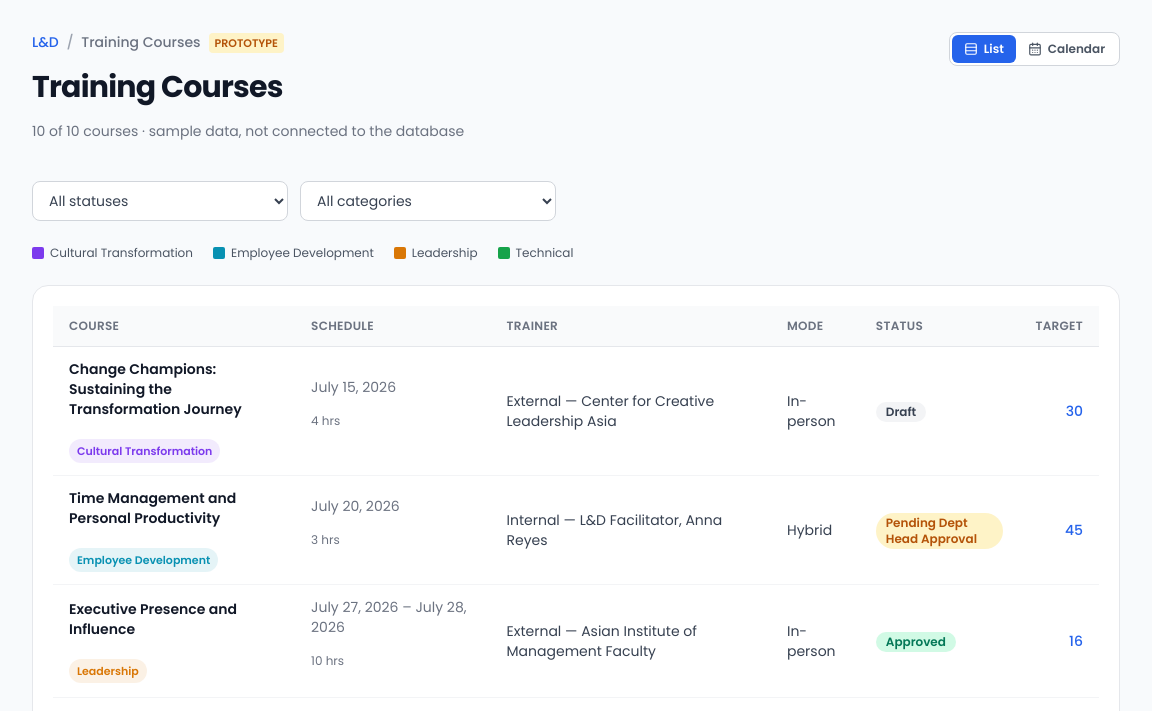
Test: TrainingCoursesPrototype › filters by status
Select "Rejected" in the 1st dropdown: (160, 201) [32,181,288,221]
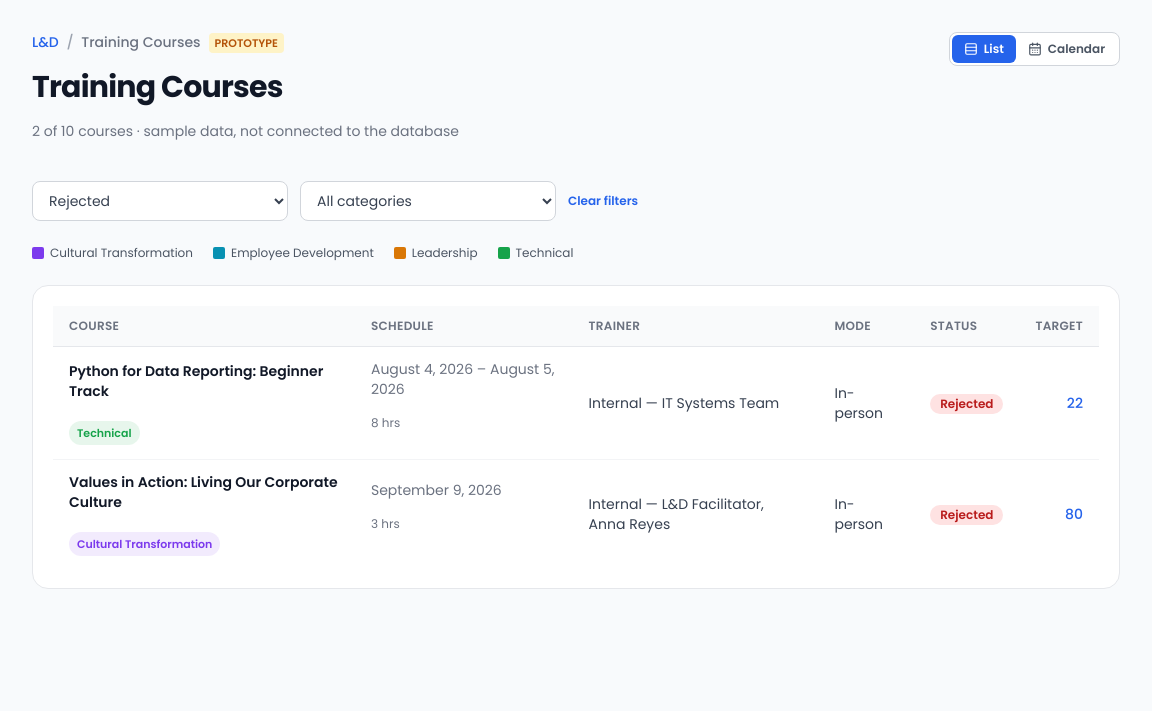
Expected: the text "Python for Data Reporting: Beginner Track" is shown, [69,361,339,401]
Expected: the text "2 of 10 courses · sample data, not connected to the database" is shown, [32,121,459,141]
Expected: the text "Executive Presence and Influence" is gone
